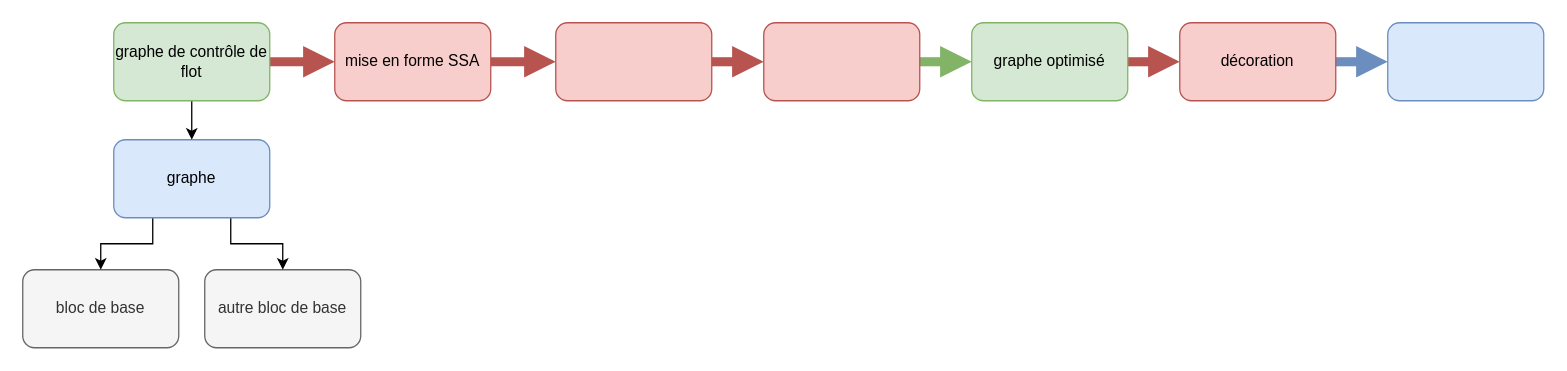
Some shapes in this 1567 by 371 pixel diagram are drawn without their labels. Each missing label, with the centre of its shape:
"génération de code" belongs at point 1465,61.
"propagation des constantes" belongs at point 633,61.
"suppression du code mort" belongs at point 841,61.
